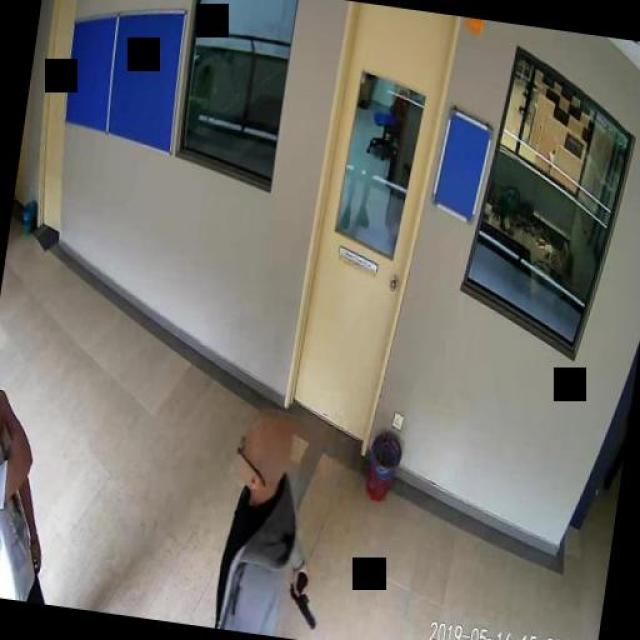gun: (284, 568, 321, 628)
